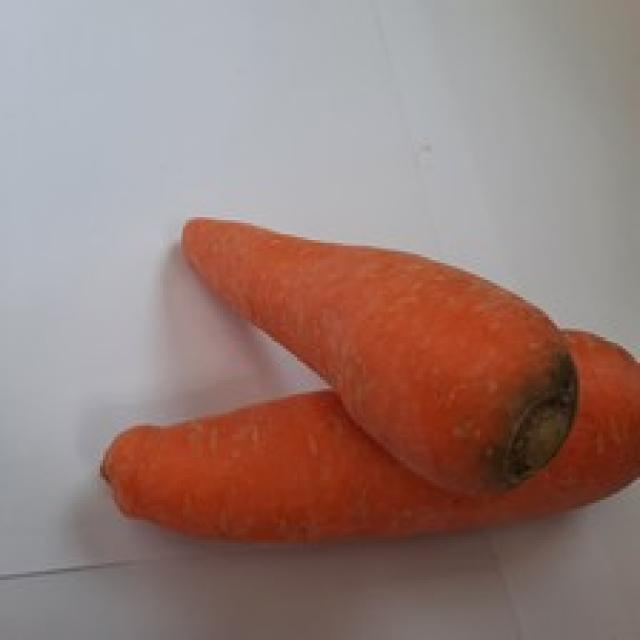Fresh_Carrot: (107, 330, 640, 541), (183, 214, 563, 484)
